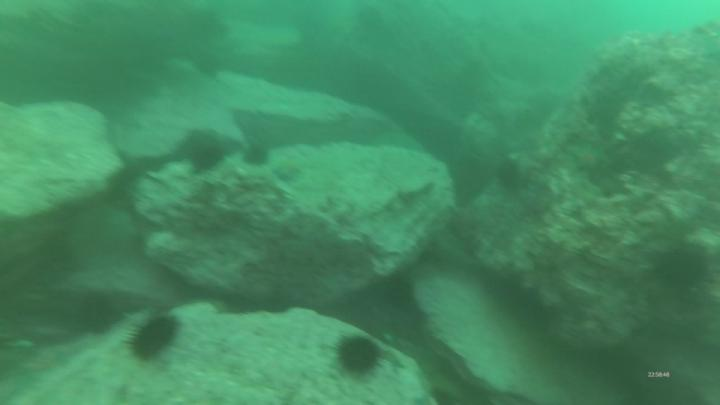echinus: (126, 315, 175, 360), (340, 337, 380, 375), (188, 143, 224, 169), (498, 155, 519, 186), (246, 147, 266, 168)
starfish: (591, 171, 633, 198), (570, 144, 605, 173), (277, 162, 299, 182)
